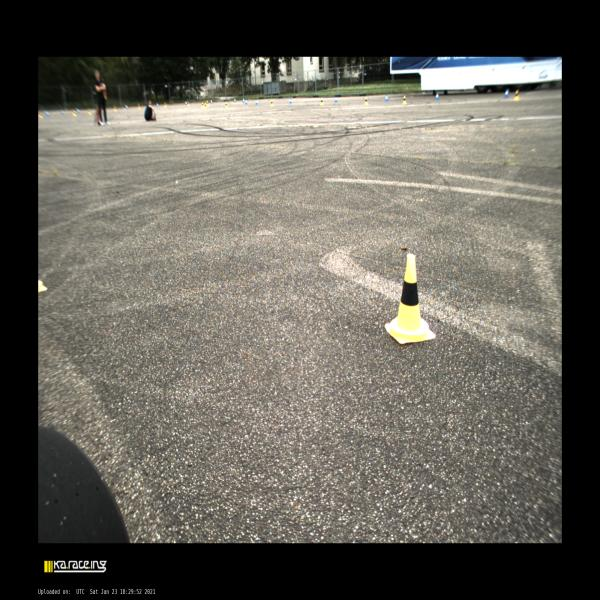blue_cone: (504, 88, 509, 98), (435, 92, 439, 100), (334, 96, 338, 103), (45, 110, 49, 116), (60, 108, 64, 114), (385, 94, 388, 101), (245, 98, 248, 105), (76, 108, 80, 113), (289, 98, 292, 104), (256, 98, 258, 104), (185, 100, 187, 106), (125, 105, 128, 109), (242, 98, 244, 103), (234, 98, 236, 103), (211, 99, 212, 104), (157, 103, 158, 107)
yellow_cone: (384, 254, 436, 345), (513, 90, 519, 100), (402, 95, 407, 105), (364, 96, 369, 106), (38, 111, 43, 118), (320, 98, 324, 105), (88, 108, 92, 115), (270, 100, 274, 106), (224, 102, 228, 108), (72, 110, 76, 116), (206, 100, 209, 106), (201, 102, 204, 108), (187, 101, 190, 106), (205, 103, 207, 109), (164, 102, 166, 108), (138, 104, 140, 109), (114, 106, 116, 111)
